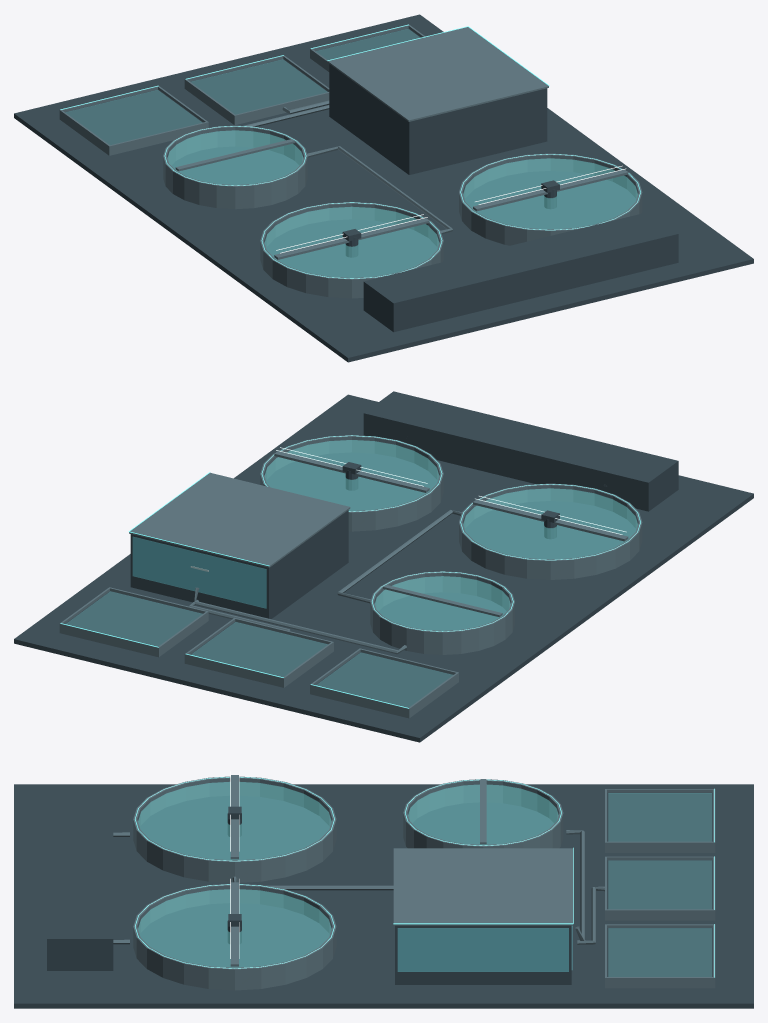
The model's file is water_treatment_plant.lod1.glb.
3 renders of one model, top to bottom at view 1: azimuth 30°, elevation 25°; view 2: azimuth 150°, elevation 25°; view 3: azimuth 270°, elevation 25°, orthographic. The views are drawn at different scales.
Parts seen in each view (by area): view 1: water_treatment_plant_graphite.001, water_treatment_plant_graphite_light.001, water_treatment_plant_glass.001, water_treatment_plant_edge.001, water_treatment_plant_white.001; view 2: water_treatment_plant_graphite.001, water_treatment_plant_graphite_light.001, water_treatment_plant_glass.001, water_treatment_plant_edge.001, water_treatment_plant_white.001; view 3: water_treatment_plant_graphite.001, water_treatment_plant_glass.001, water_treatment_plant_graphite_light.001, water_treatment_plant_edge.001.
Boxes of the visible parts, x1=… form: water_treatment_plant_graphite.001: x1=14, y1=14, x2=753, y2=362; water_treatment_plant_graphite_light.001: x1=59, y1=24, x2=642, y2=298; water_treatment_plant_glass.001: x1=66, y1=29, x2=637, y2=277; water_treatment_plant_edge.001: x1=60, y1=24, x2=640, y2=278; water_treatment_plant_white.001: x1=276, y1=165, x2=626, y2=253; water_treatment_plant_graphite.001: x1=14, y1=391, x2=753, y2=742; water_treatment_plant_graphite_light.001: x1=59, y1=435, x2=642, y2=718; water_treatment_plant_glass.001: x1=67, y1=440, x2=637, y2=707; water_treatment_plant_edge.001: x1=60, y1=435, x2=640, y2=708; water_treatment_plant_white.001: x1=276, y1=447, x2=626, y2=534; water_treatment_plant_graphite.001: x1=14, y1=784, x2=753, y2=1008; water_treatment_plant_glass.001: x1=138, y1=782, x2=711, y2=976; water_treatment_plant_graphite_light.001: x1=113, y1=775, x2=715, y2=990; water_treatment_plant_edge.001: x1=135, y1=777, x2=714, y2=977.
Bounding box in the file's own units: 94 × 13.39 × 134.
